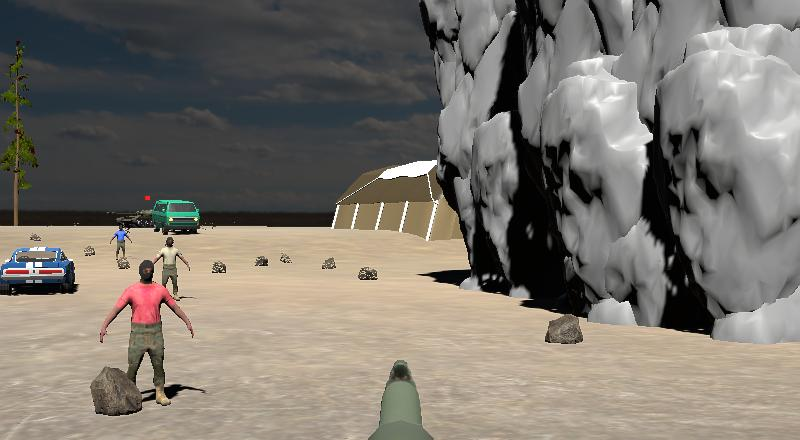Human: (95, 257, 199, 414), (150, 234, 193, 302), (108, 222, 134, 268)
Tank: (103, 207, 155, 229)
car: (0, 243, 80, 299), (150, 197, 203, 236)
